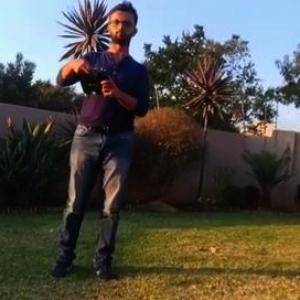follow: (45, 0, 156, 287)
